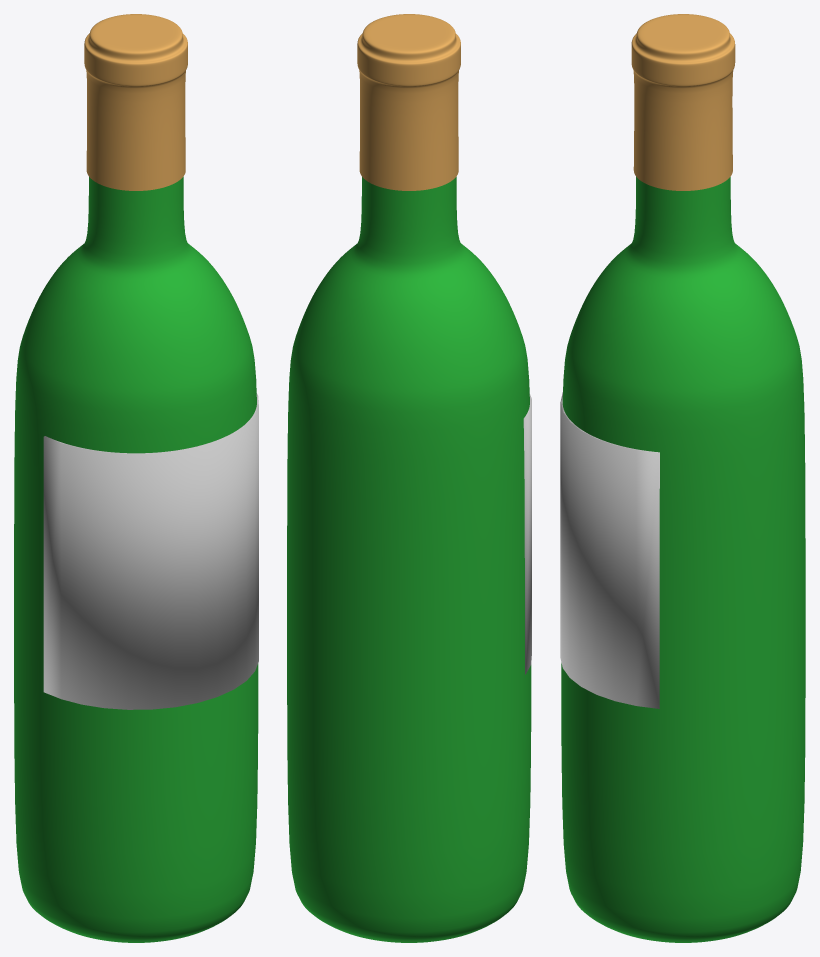
File: beer bottle 2.fbx
3 renders of one model, left to right at view 1: azimuth 30°, elevation 25°; view 2: azimuth 150°, elevation 25°; view 3: azimuth 270°, elevation 25°, orthographic.
Parts seen in each view (by area): view 1: bottle, label, cap; view 2: bottle, cap, label; view 3: bottle, label, cap.
Boxes of the visible parts, x1=… form: bottle: x1=14, y1=176, x2=258, y2=942; label: x1=43, y1=393, x2=258, y2=709; cap: x1=84, y1=14, x2=187, y2=190; bottle: x1=287, y1=176, x2=531, y2=942; cap: x1=357, y1=14, x2=460, y2=190; label: x1=523, y1=394, x2=531, y2=674; bottle: x1=561, y1=176, x2=805, y2=942; label: x1=560, y1=392, x2=659, y2=708; cap: x1=631, y1=14, x2=735, y2=190.
Bounding box in the file's own units: 140 × 553 × 141.
